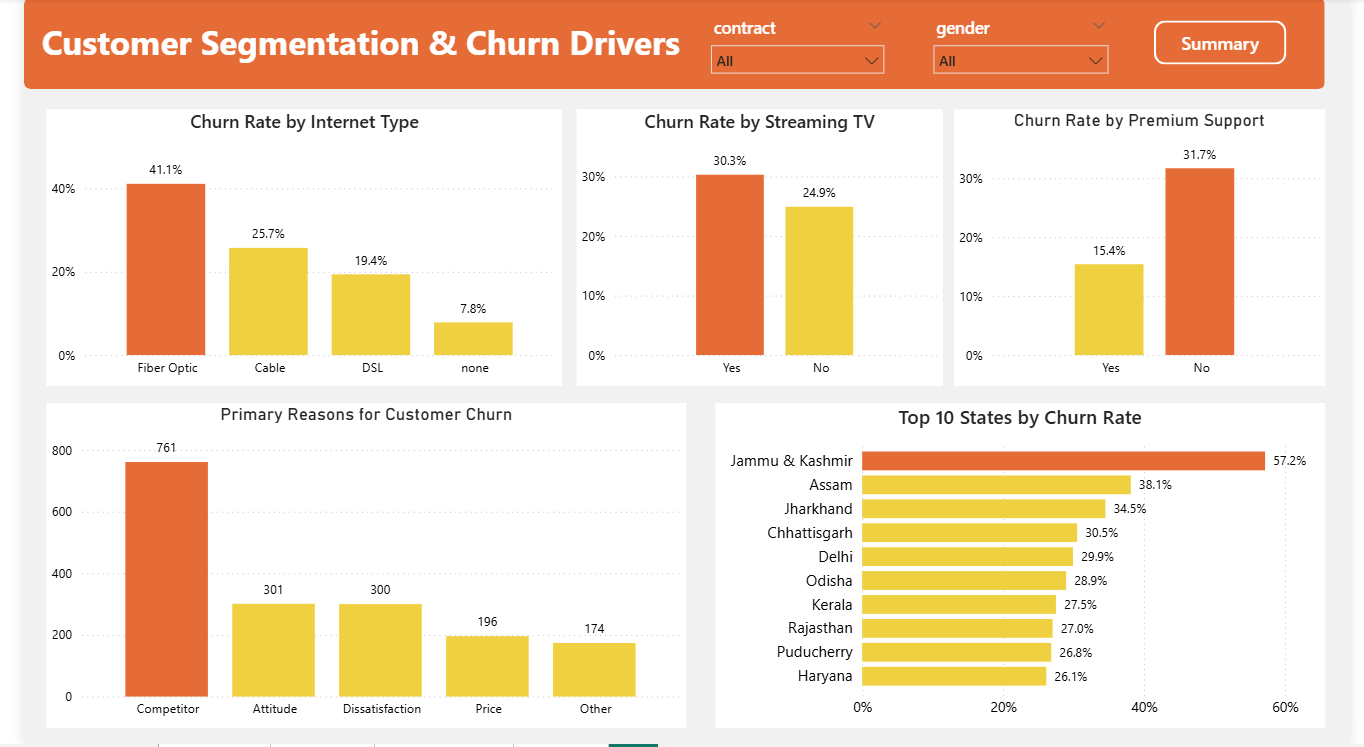

The dashboard page shown, as its layout file describes it:
{"tool":"powerbi","page":{"name":"insights","canvas":[1280,720],"ordinal":1},"visuals":[{"type":"shape","box":[0,0,1255.6,87.8],"z":0},{"type":"columnChart","title":"Churn Rate by Internet Type","fields":{"Category":["public prod_churn.internet_type"],"Y":["Measure.churn_rate"]},"box":[21.5,107.6,498,267.4],"z":1000},{"type":"clusteredBarChart","title":"Top 10 States by Churn Rate","fields":{"Category":["public prod_churn.state"],"Y":["Measure.churn_rate"]},"box":[667.1,390.4,588.7,313.5],"z":2000},{"type":"clusteredColumnChart","title":"Churn Rate by Streaming TV","fields":{"Category":["public prod_churn.streaming_tv"],"Y":["Measure.churn_rate"]},"box":[533.3,107.6,353.5,267.4],"z":3000},{"type":"columnChart","title":"Churn Rate by Premium Support","fields":{"Category":["public prod_churn.premium_support"],"Y":["Measure.churn_rate"]},"box":[897.6,107.6,358.1,267.4],"z":4000},{"type":"clusteredColumnChart","title":"Primary Reasons for Customer Churn","fields":{"Category":["public prod_churn.churn_category"],"Y":["Measure.total_churn"]},"box":[21.5,390.4,617.9,313.5],"z":5000},{"type":"textbox","box":[12.3,15.1,640.8,64.5],"z":6000},{"type":"slicer","fields":{"Values":["public prod_churn.contract"]},"box":[653.2,12.3,188,63.1],"z":7000},{"type":"slicer","fields":{"Values":["public prod_churn.gender"]},"box":[867.2,12.3,189.4,61.7],"z":8000},{"type":"shape","box":[1090.9,22,127.6,42.5],"z":9000}]}

Visuals, with their boxes in screenshot pixels (x1, y1, x2, y2), scaled from the page's 1280x720 canvas onto the 1364x747 screenshot:
shape: region(0, 0, 1338, 91)
"Churn Rate by Internet Type" columnChart: region(23, 112, 554, 389)
"Top 10 States by Churn Rate" clusteredBarChart: region(711, 405, 1338, 730)
"Churn Rate by Streaming TV" clusteredColumnChart: region(568, 112, 945, 389)
"Churn Rate by Premium Support" columnChart: region(957, 112, 1338, 389)
"Primary Reasons for Customer Churn" clusteredColumnChart: region(23, 405, 681, 730)
textbox: region(13, 16, 696, 83)
slicer - public prod_churn.contract: region(696, 13, 896, 78)
slicer - public prod_churn.gender: region(924, 13, 1126, 77)
shape: region(1162, 23, 1298, 67)
